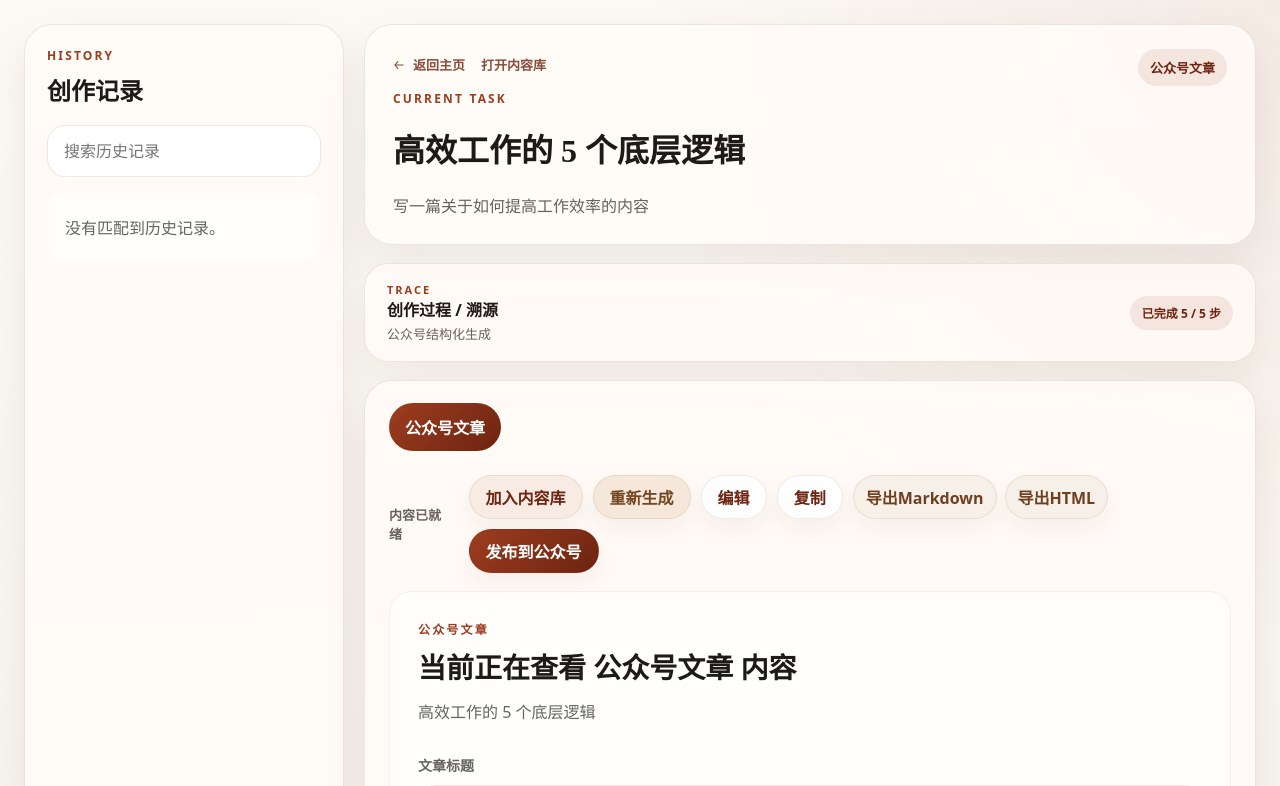
Scenario: WorkspaceShell › adds the current wechat article to the content library from the workspace
The width and height of the screenshot is (1280, 786).
Click the button "加入内容库".
click(526, 497)  # box [469,475,583,519]
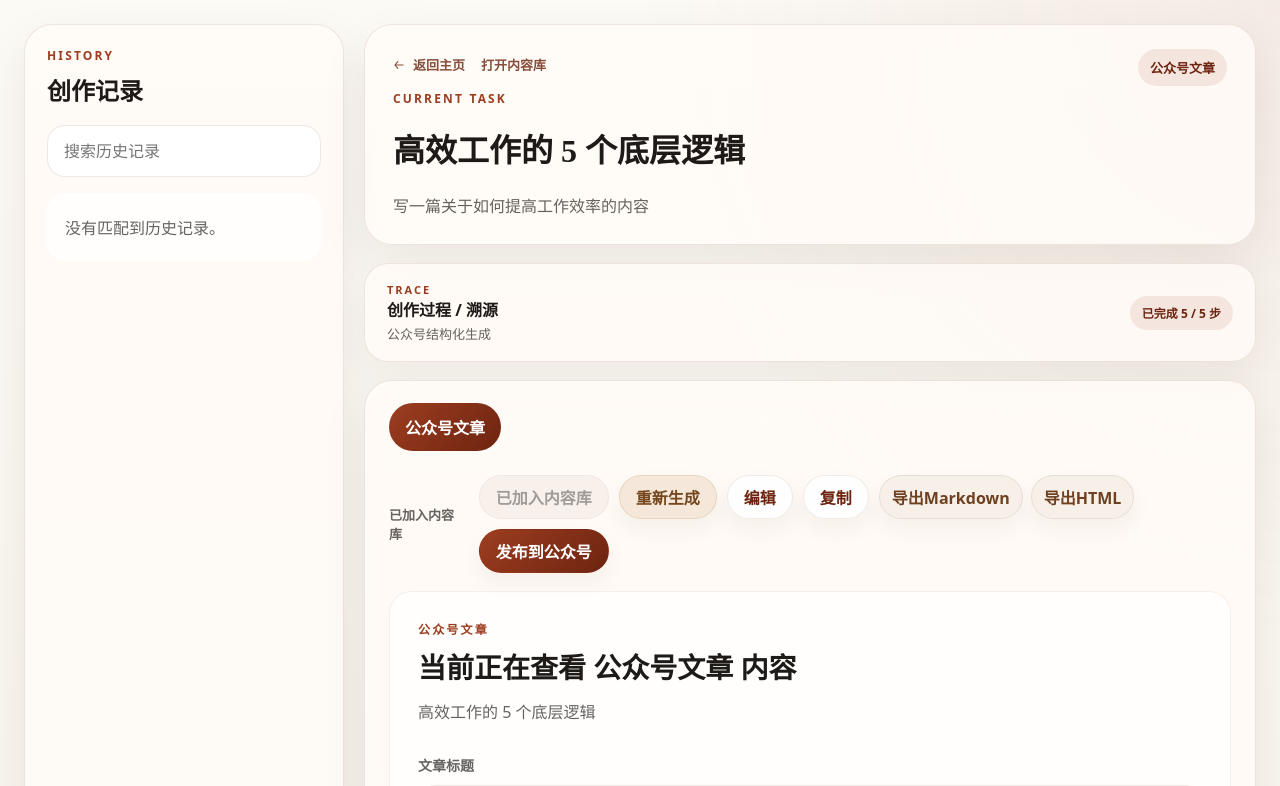
Expected: the button "已加入内容库" is disabled, [479,475,609,519]
